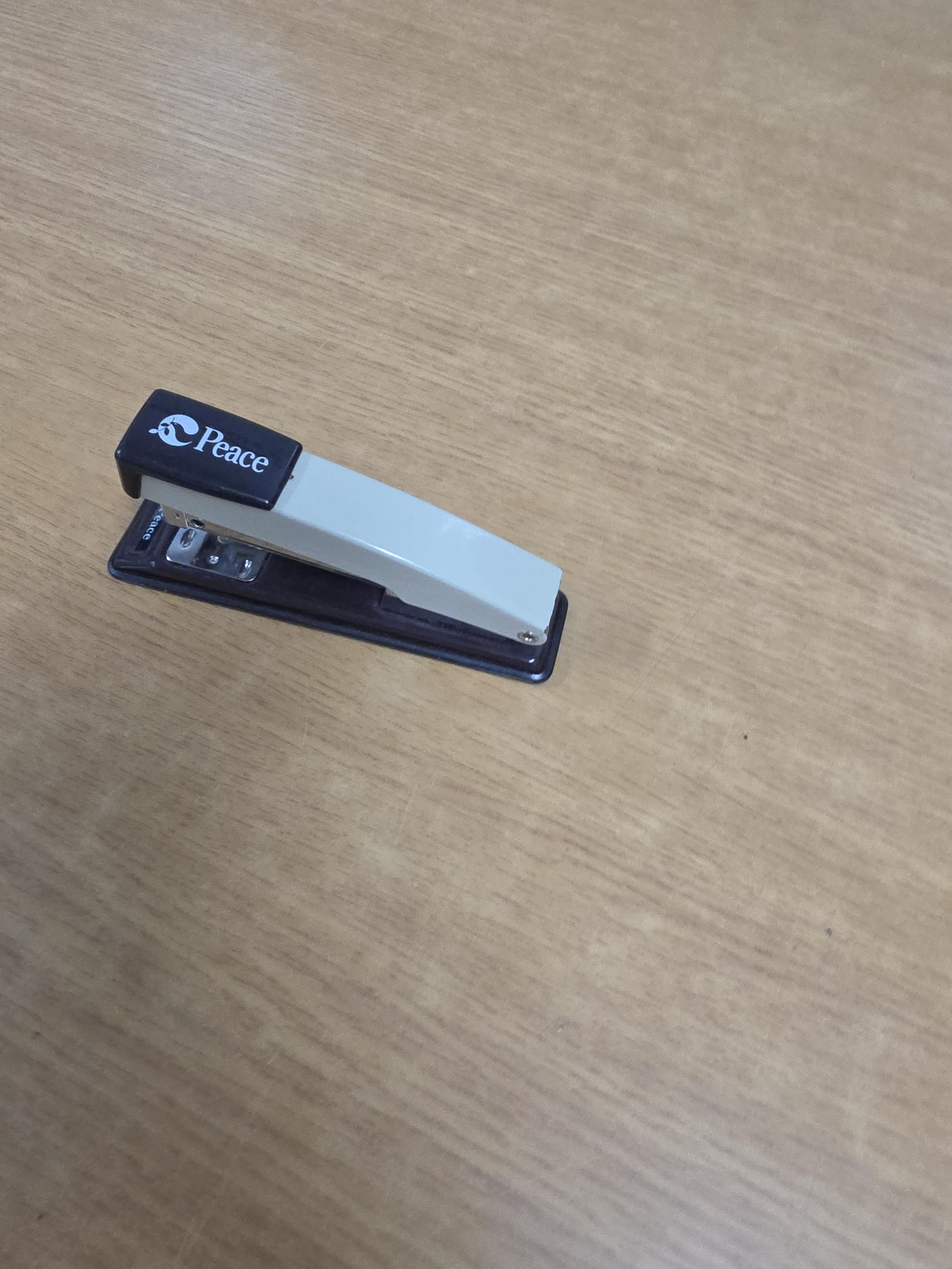stapler: (105, 388, 570, 684)
